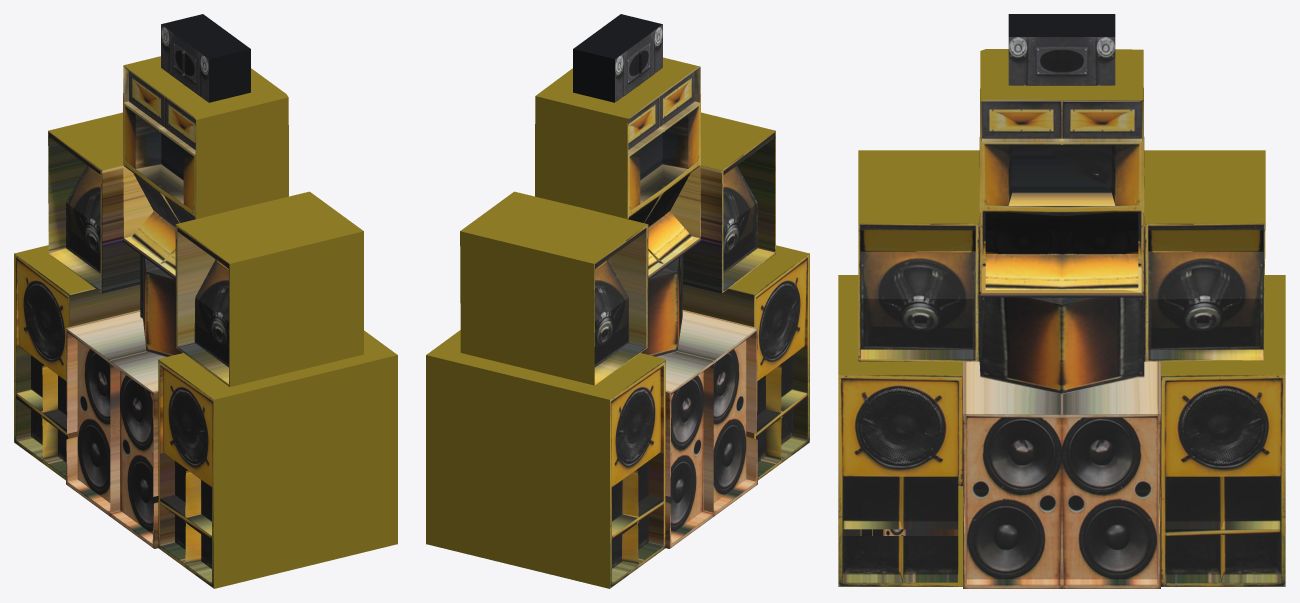
Rendered from soundsystem.glb.
3 views of the same model, side by side, from view 1: azimuth 30°, elevation 25°; view 2: azimuth 150°, elevation 25°; view 3: azimuth 270°, elevation 25° (orthographic). The views are drawn at different scales.
Parts seen in each view (by area): view 1: sistema.001_0; view 2: sistema.001_0; view 3: sistema.001_0.
Part boxes in pixels (x1=…): sistema.001_0: x1=14, y1=14, x2=397, y2=588; sistema.001_0: x1=426, y1=14, x2=809, y2=588; sistema.001_0: x1=838, y1=14, x2=1285, y2=588.
Bounding box in the file's own units: 0.8561 × 1.95 × 1.55.
Materials: 3 (1 with a texture image).
